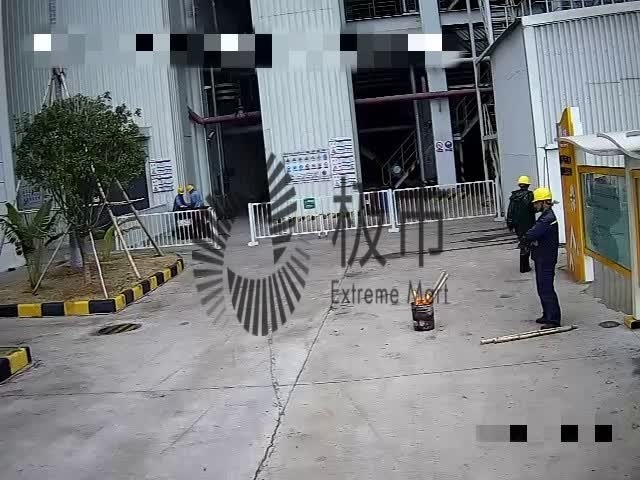fire: (409, 286, 434, 312)
